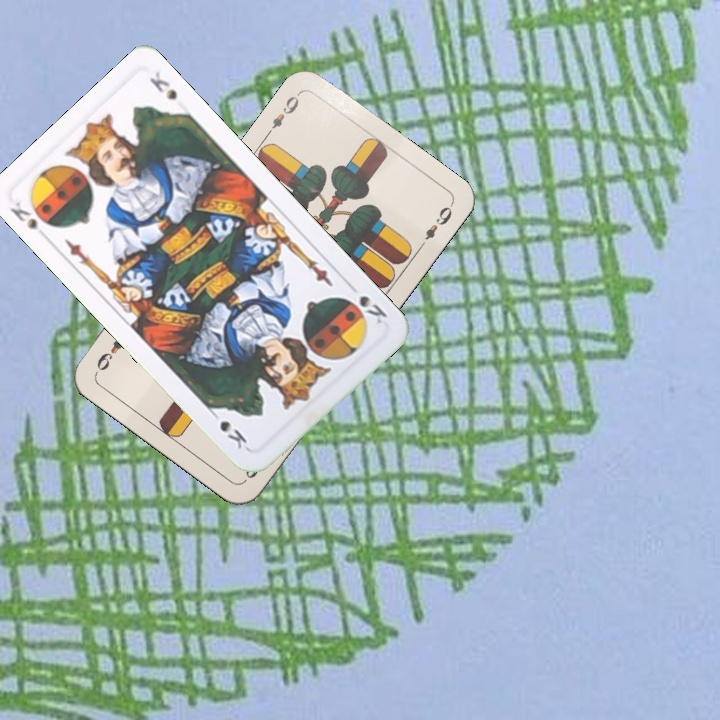E9: (262, 89, 303, 139)
SK: (6, 197, 53, 242), (341, 291, 390, 327)
